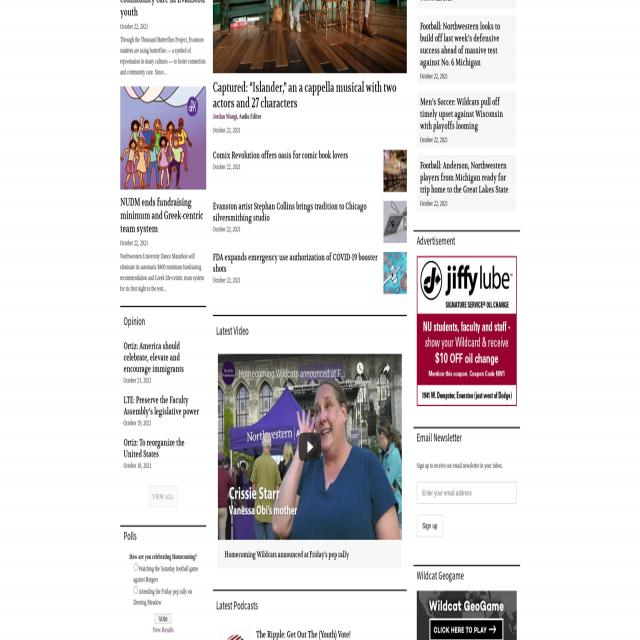button: (218, 354, 402, 540), (416, 256, 516, 406), (212, 0, 406, 75), (120, 86, 206, 190), (417, 590, 517, 640), (429, 619, 504, 640), (383, 201, 407, 244), (383, 150, 407, 192), (383, 252, 407, 294), (348, 357, 371, 396), (377, 357, 395, 395), (149, 486, 178, 509), (299, 432, 321, 461), (417, 514, 443, 537), (222, 362, 235, 386), (155, 614, 171, 624)
field: (416, 481, 516, 504), (133, 563, 138, 571), (133, 586, 138, 594)
